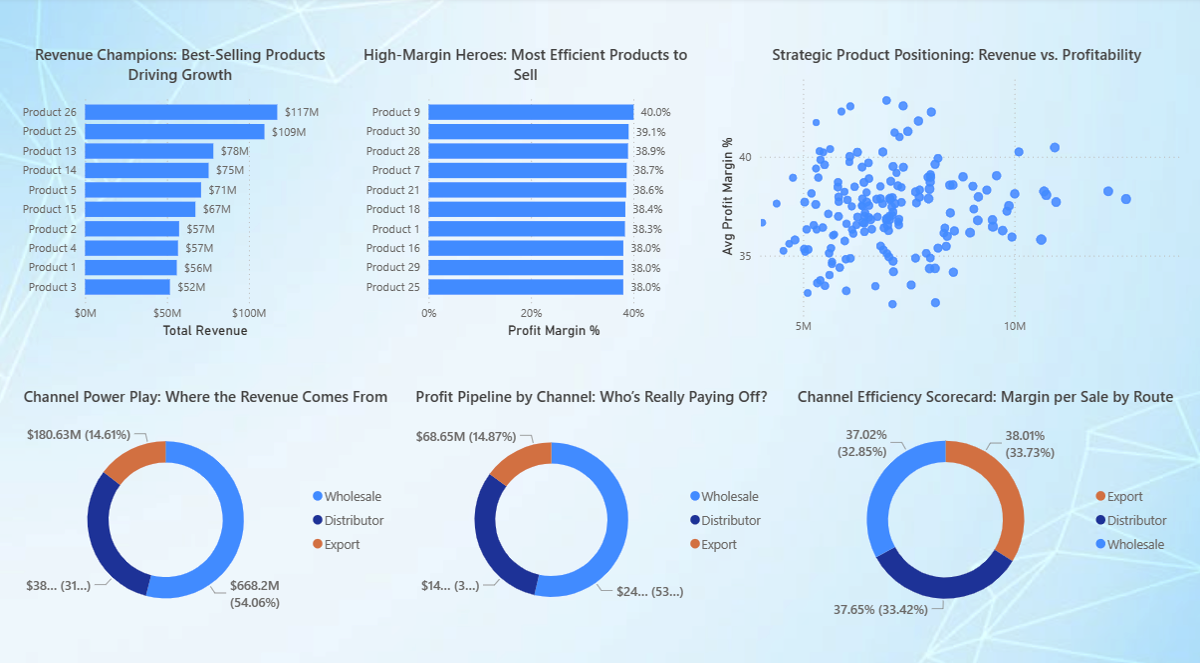

This screenshot's page, from the dashboard's own definition file:
{"tool":"powerbi","page":{"name":"Products & Channels Insights","canvas":[1280,720],"ordinal":2},"visuals":[{"type":"barChart","title":"Revenue Champions: Best-Selling Products Driving Growth","fields":{"Category":["Sales_data.product_name"],"Y":["Measures_.Total Revenue"]},"box":[13.9,51.3,357,316],"z":0},{"type":"scatterChart","title":"Strategic Product Positioning: Revenue vs. Profitability","fields":{"X":["Customer Summary.Total Revenue"],"Y":["Customer Summary.Avg Profit Margin %"],"Size":["Sum(Customer Summary.Order Count)"]},"box":[761.9,51.3,516,317],"z":1000},{"type":"barChart","title":"High-Margin Heroes: Most Efficient Products to Sell","fields":{"Category":["Sales_data.product_name"],"Y":["Measures_.Profit Margin %"]},"box":[379.9,51.3,361,316],"z":2000},{"type":"donutChart","title":"Channel Power Play: Where the Revenue Comes From","fields":{"Category":["Sales_data.channel"],"Y":["Measures_.Total Revenue"]},"box":[16.4,413.9,408.3,261.7],"z":3000},{"type":"donutChart","title":"Profit Pipeline by Channel: Who’s Really Paying Off?","fields":{"Category":["Sales_data.channel"],"Y":["Measures_.Total Profit"]},"box":[436.4,413.9,390,261.7],"z":4000},{"type":"donutChart","title":"Channel Efficiency Scorecard: Margin per Sale by Route","fields":{"Category":["Sales_data.channel"],"Y":["Measures_.Profit Margin %"]},"box":[843,413.9,415,261.7],"z":5000}]}

Visuals, with their boxes in screenshot pixels (x1, y1, x2, y2), scaled from the page's 1280x720 canvas onto the 1200x663 screenshot:
"Revenue Champions: Best-Selling Products Driving Growth" barChart: locate(13, 47, 348, 338)
"Strategic Product Positioning: Revenue vs. Profitability" scatterChart: locate(714, 47, 1198, 339)
"High-Margin Heroes: Most Efficient Products to Sell" barChart: locate(356, 47, 695, 338)
"Channel Power Play: Where the Revenue Comes From" donutChart: locate(15, 381, 398, 622)
"Profit Pipeline by Channel: Who’s Really Paying Off?" donutChart: locate(409, 381, 775, 622)
"Channel Efficiency Scorecard: Margin per Sale by Route" donutChart: locate(790, 381, 1179, 622)
